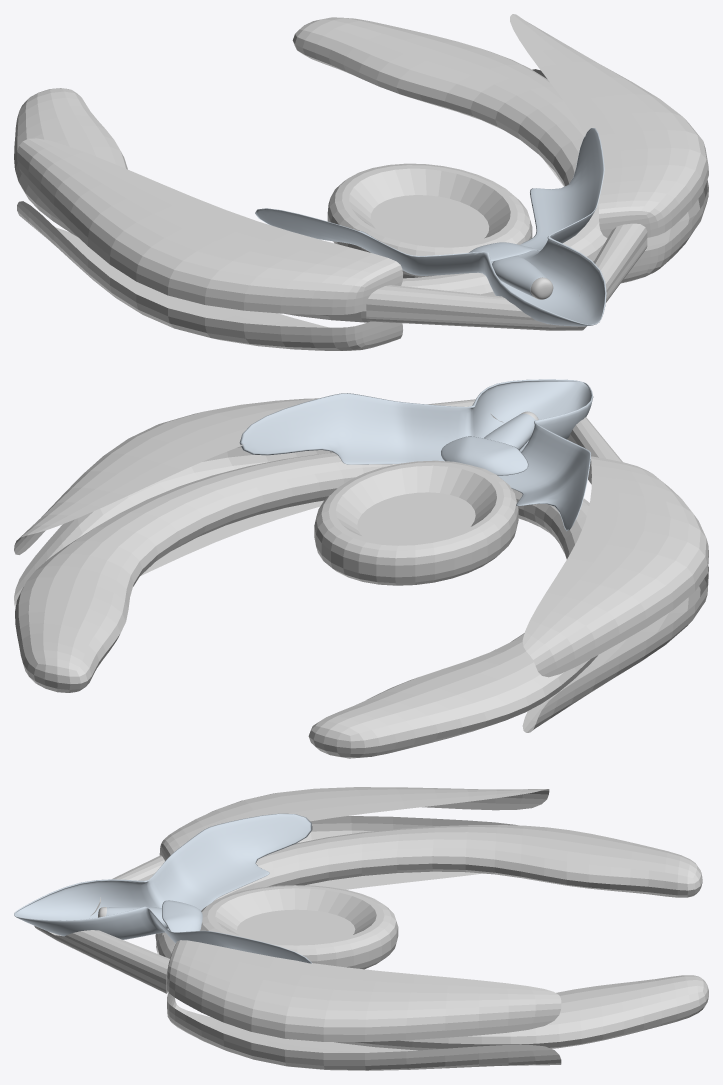
Rendered from spaceship.fbx.
3 views of the same model, one above another, from view 1: azimuth 30°, elevation 25°; view 2: azimuth 150°, elevation 25°; view 3: azimuth 270°, elevation 25° (orthographic). The views are drawn at different scales.
Visible parts, largest first — view 1: Cylinder; view 2: Cylinder; view 3: Cylinder.
Boxes of the visible parts, x1,y1,x2,y2 form: Cylinder: (14, 14, 708, 350); Cylinder: (14, 379, 708, 758); Cylinder: (14, 787, 708, 1070).
Size of the model in its own units: 159 by 28.21 by 197.
